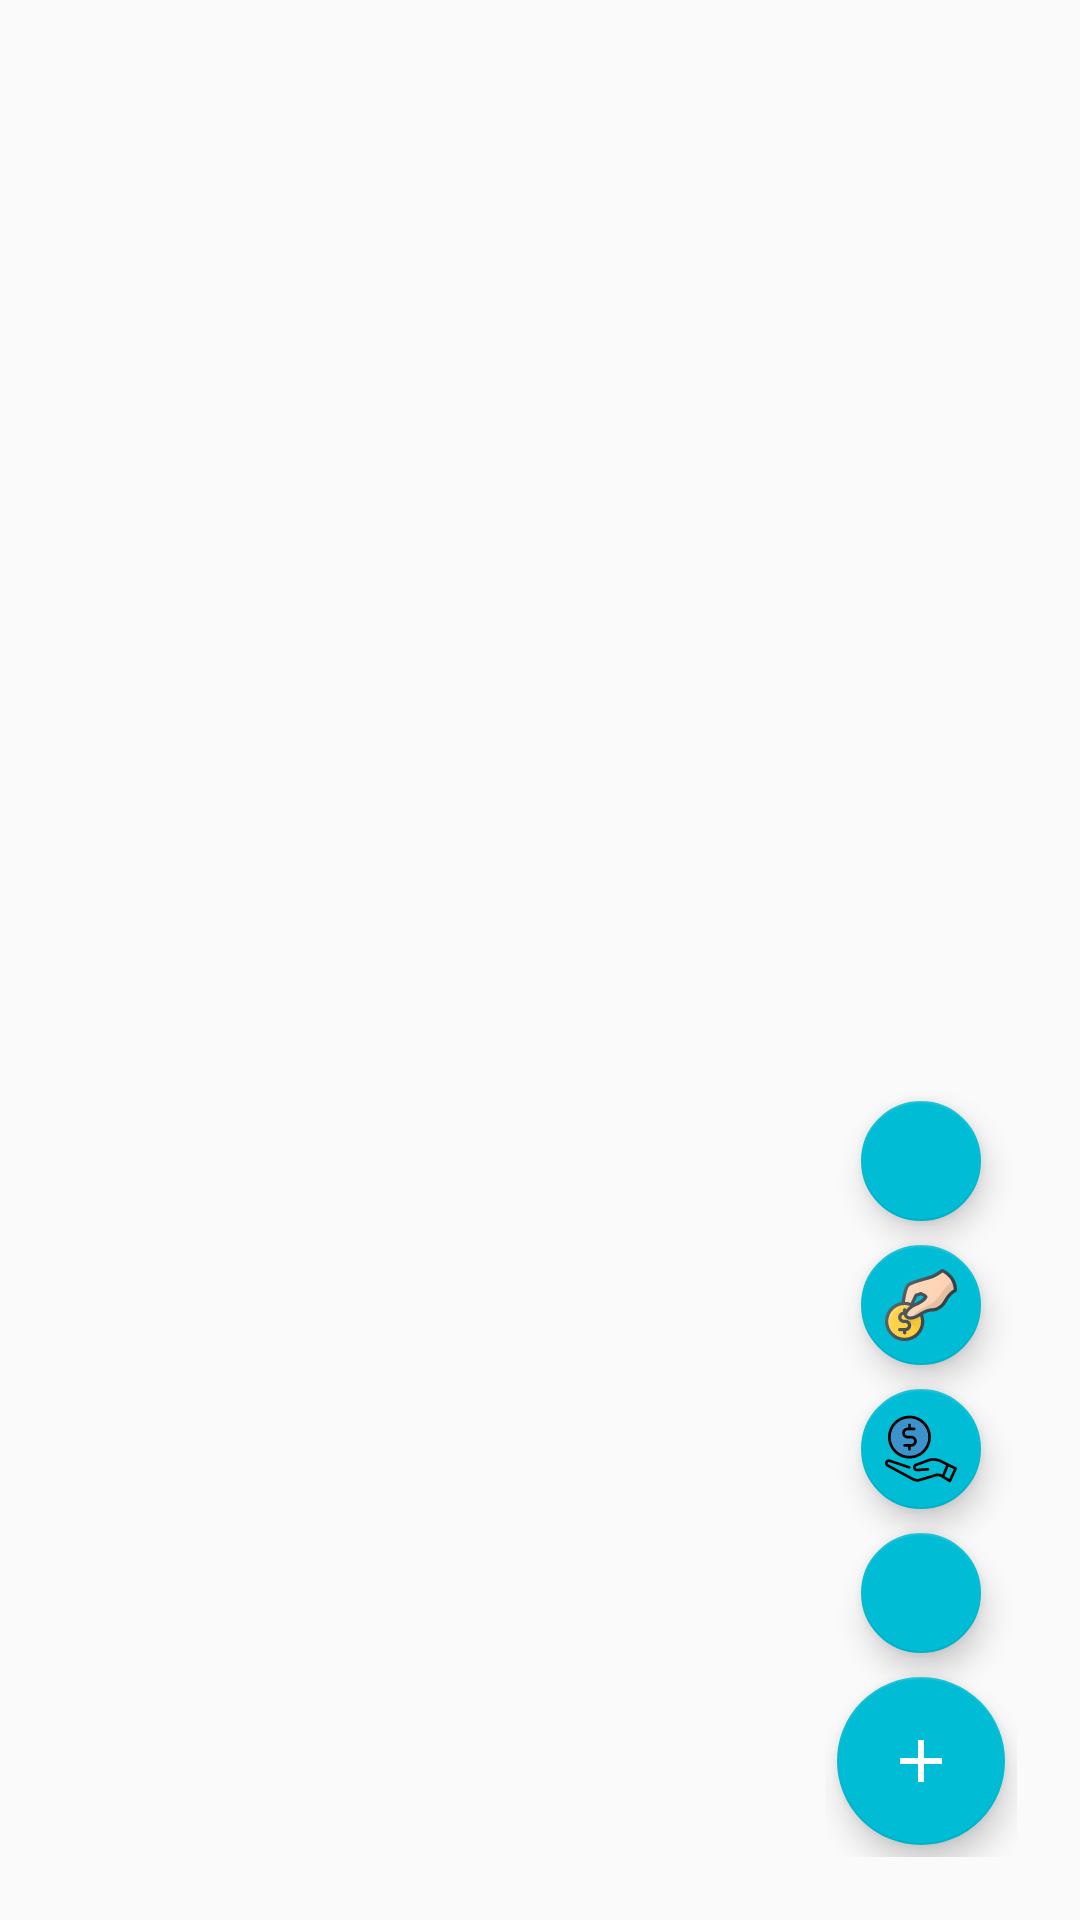

Point at icon controls on the screen. Image size 1080*1920, points as point (x, y).
add: point (921, 1761)
donate: point (921, 1305)
money hand: point (921, 1449)
